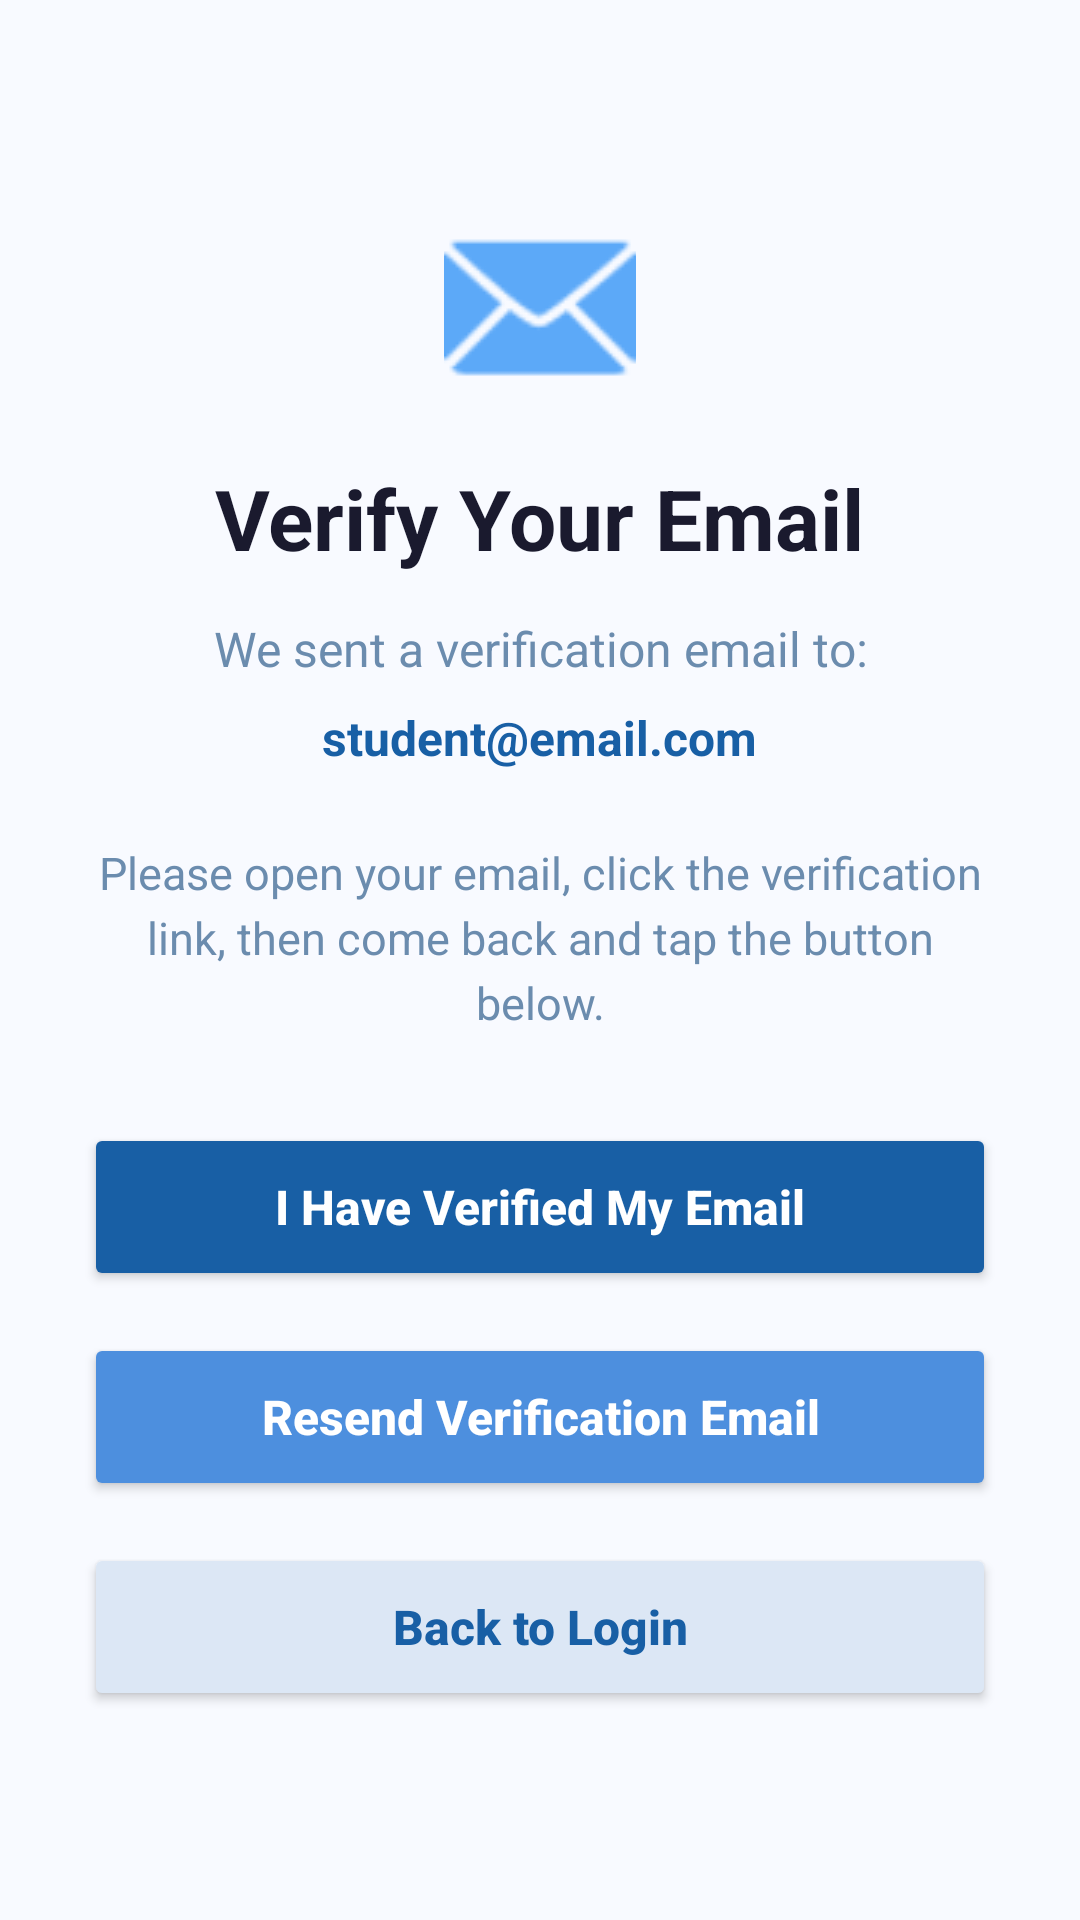

Where to tap for icons on this 1080x1920 app screen, as (x,y):
Email Verification Icon: (540,308)
